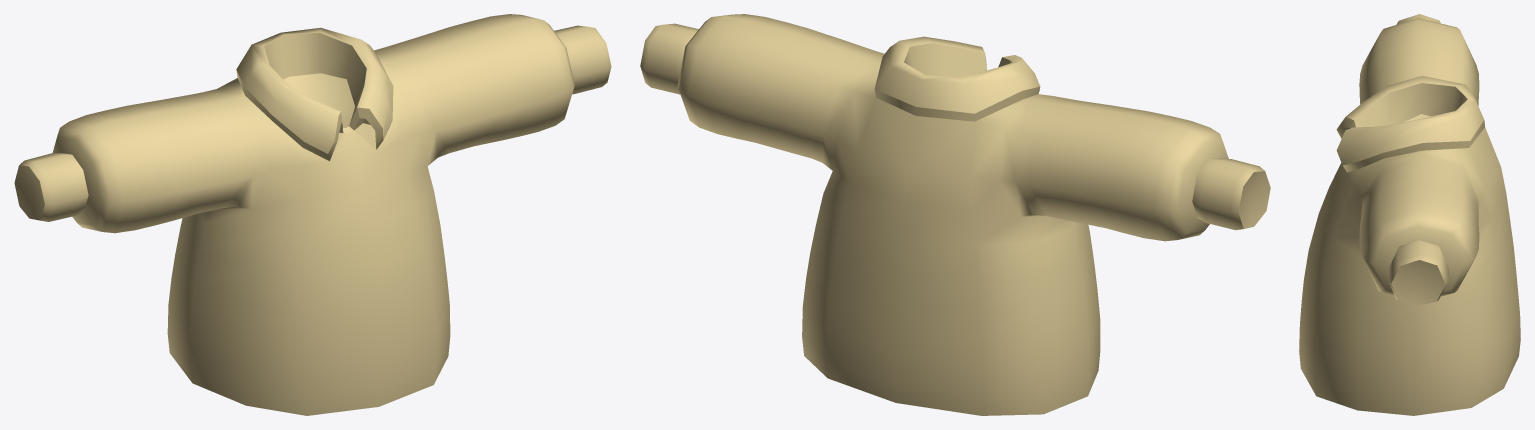
Rendered from Top_31.fbx.
The picture shows the model from 3 angles, left to right: view 1: azimuth 30°, elevation 25°; view 2: azimuth 150°, elevation 25°; view 3: azimuth 270°, elevation 25°; orthographic projection. The views are drawn at different scales.
Parts seen in each view (by area): view 1: Top_31; view 2: Top_31; view 3: Top_31.
Part boxes in pixels (left/top/right/bottom): Top_31: left=14, top=14, right=611, bottom=415; Top_31: left=640, top=14, right=1270, bottom=415; Top_31: left=1299, top=14, right=1520, bottom=415.
Bounding box in the file's own units: 95.16 × 48.91 × 36.27.
